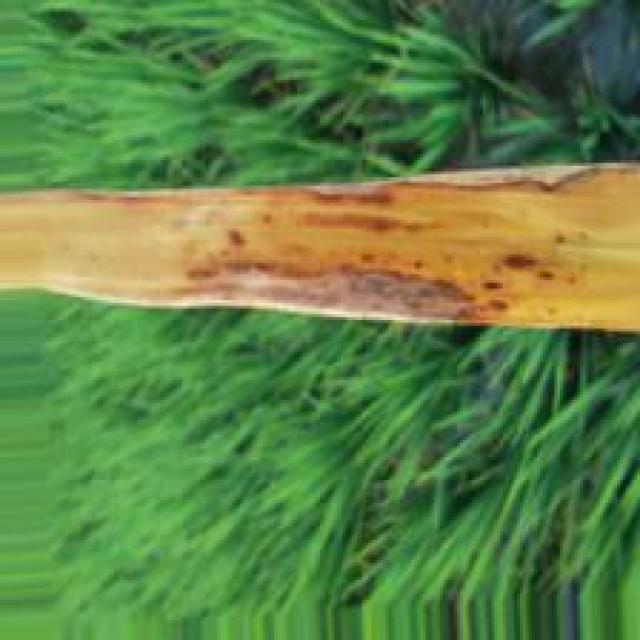Leaf_Scald: (0, 159, 638, 335)
